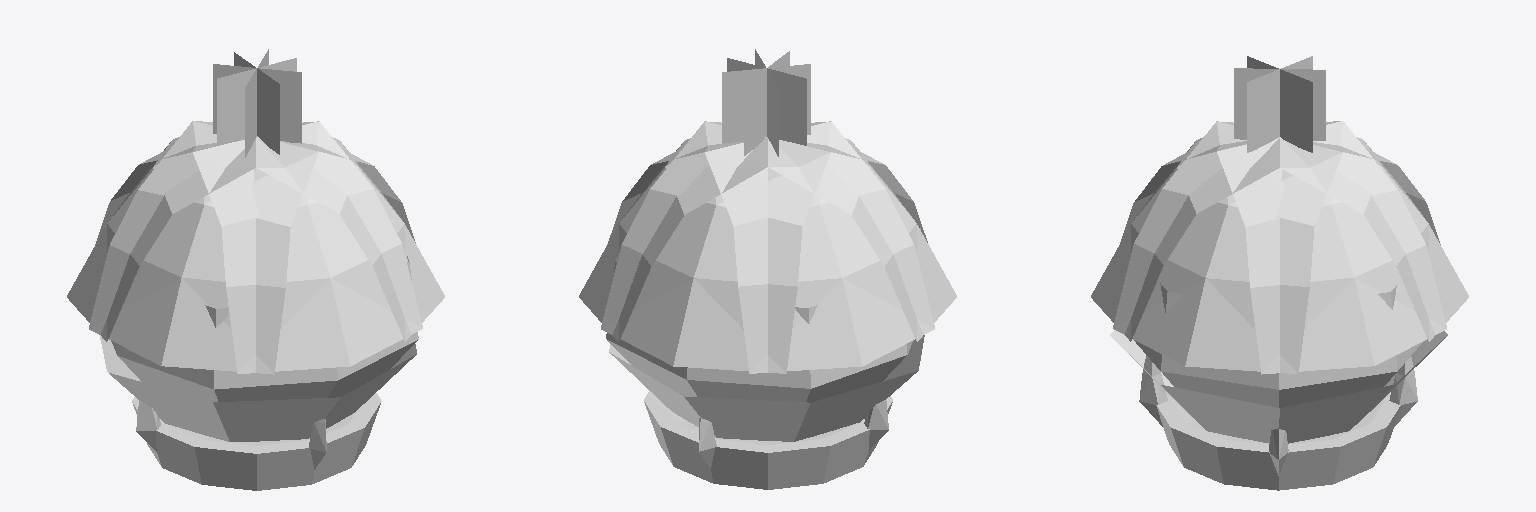
The model's file is stg600_obj_planterB.obj.
3 renders of one model, left to right at view 1: azimuth 30°, elevation 25°; view 2: azimuth 150°, elevation 25°; view 3: azimuth 270°, elevation 25°, orthographic.
Parts seen in each view (by area): view 1: polygon2, polygon0, polygon1; view 2: polygon2, polygon0, polygon1; view 3: polygon2, polygon0, polygon1.
Part boxes in pixels (left/top/right/bottom): polygon2: left=67, top=49, right=444, bottom=441; polygon0: left=132, top=393, right=381, bottom=490; polygon1: left=167, top=411, right=356, bottom=445; polygon2: left=579, top=49, right=956, bottom=441; polygon0: left=644, top=391, right=892, bottom=489; polygon1: left=667, top=408, right=860, bottom=444; polygon2: left=1091, top=56, right=1468, bottom=443; polygon0: left=1139, top=355, right=1417, bottom=490; polygon1: left=1172, top=399, right=1384, bottom=444.
Bounding box in the file's own units: 20.31 × 23.09 × 21.07.